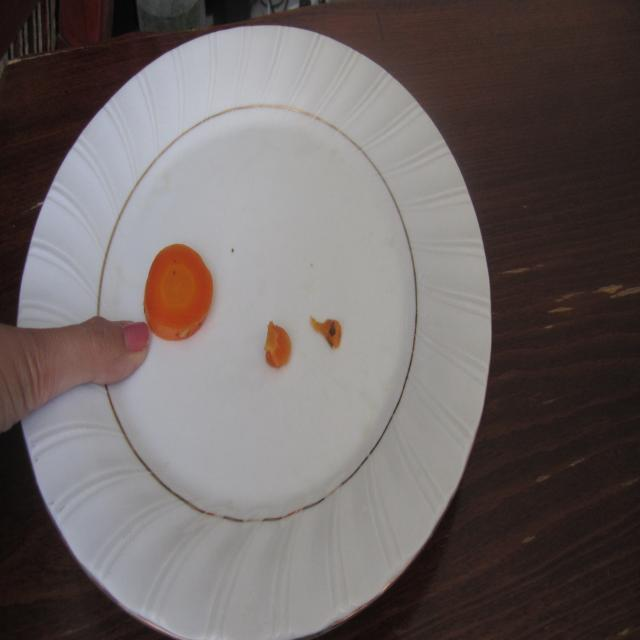Carrot: (140, 237, 216, 346)
Finger: (70, 306, 155, 400)
